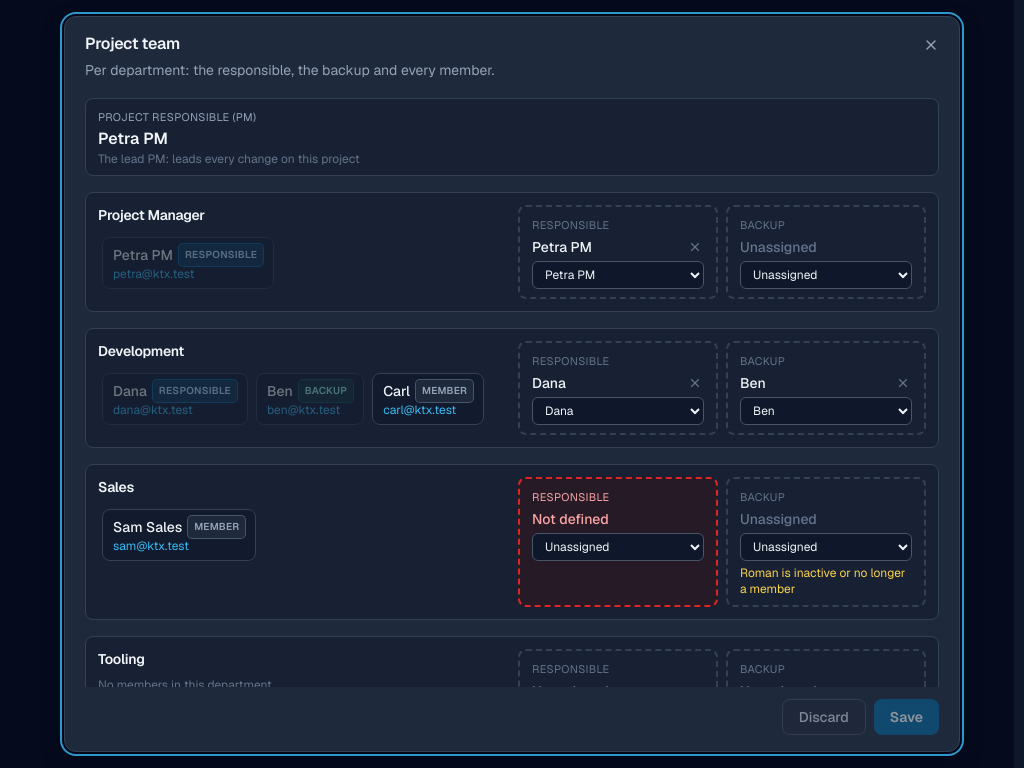
Test: ProjectTeamDialog › Discard drops the draft; closing with unsaved changes asks first
The width and height of the screenshot is (1024, 768).
Later steps or results of the test are not shown.
Expected: the element with test id "team-row-9" is shown, [85, 328, 939, 448]
Click the button with test id "team-clear-backup-9": [903, 383] box [894, 374, 912, 392]
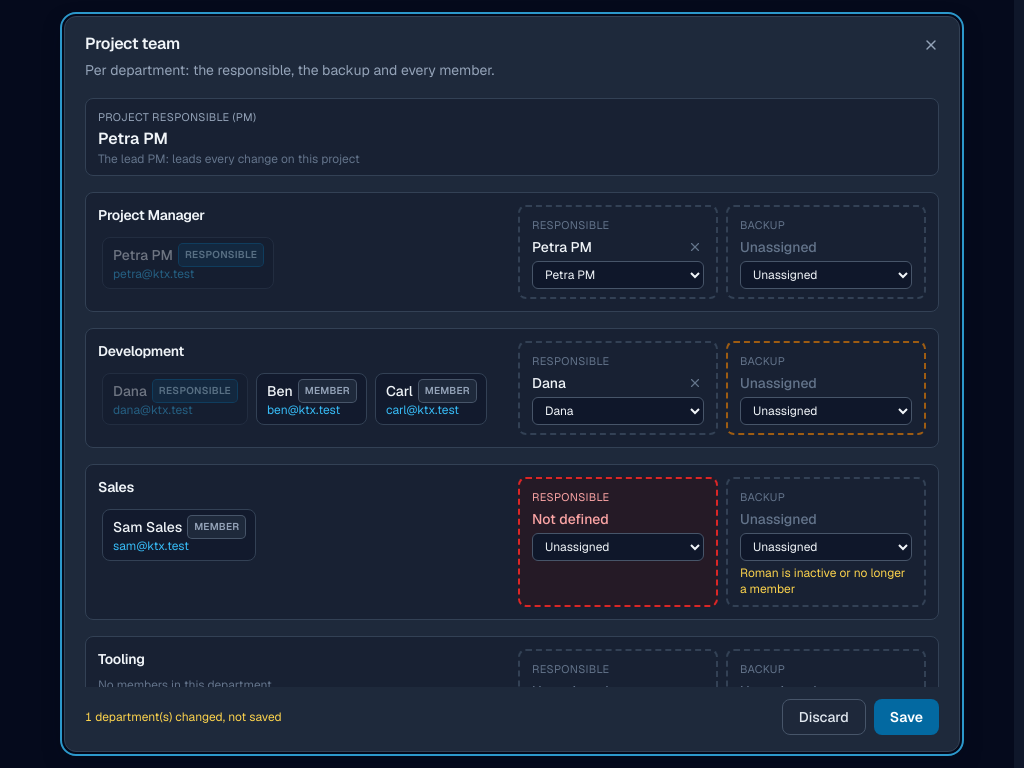
Click the button with test id "team-discard": [824, 717] box [782, 699, 866, 735]
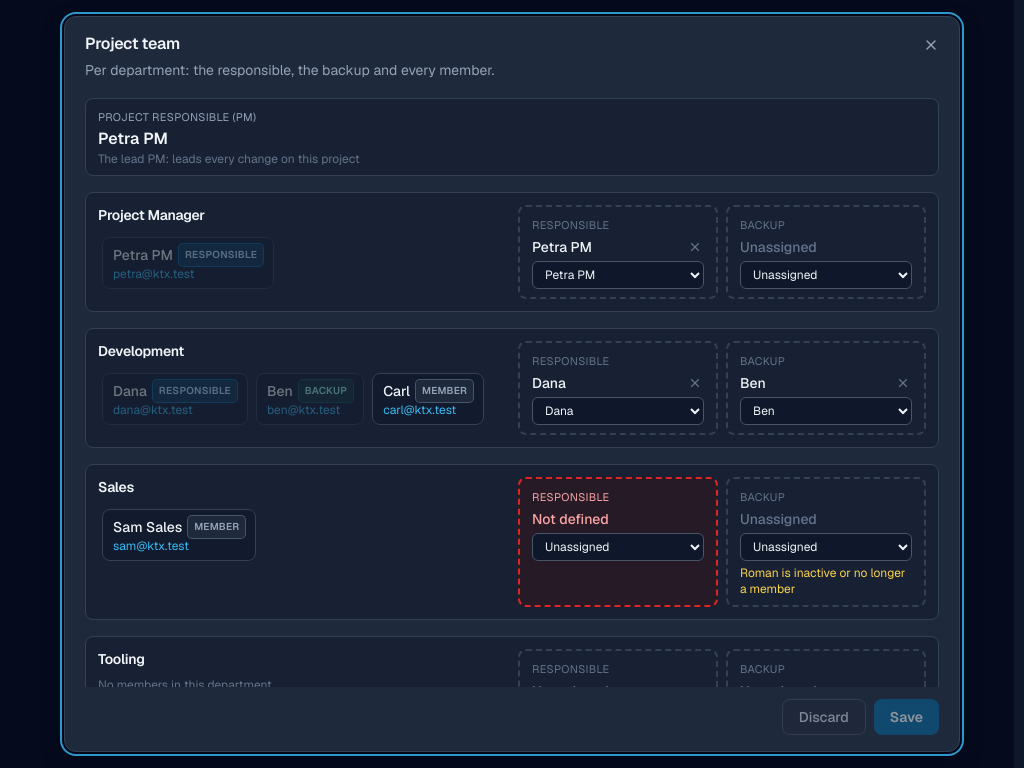
Expected: the element with test id "team-slot-backup-9" shows "Ben", [740, 374, 766, 392]
